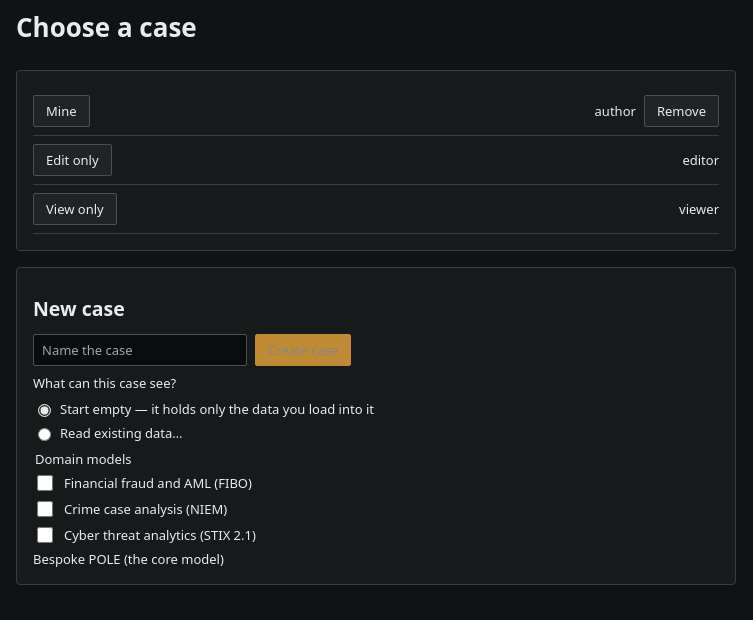
Test: removing a case from the picker › keeps the case listed and says why when the server refuses
Check: the button "Mine" is shown, box [33,95,90,127]
Click the button with aria-label "Remove Mine" at (681, 111), box [644,95,719,127]
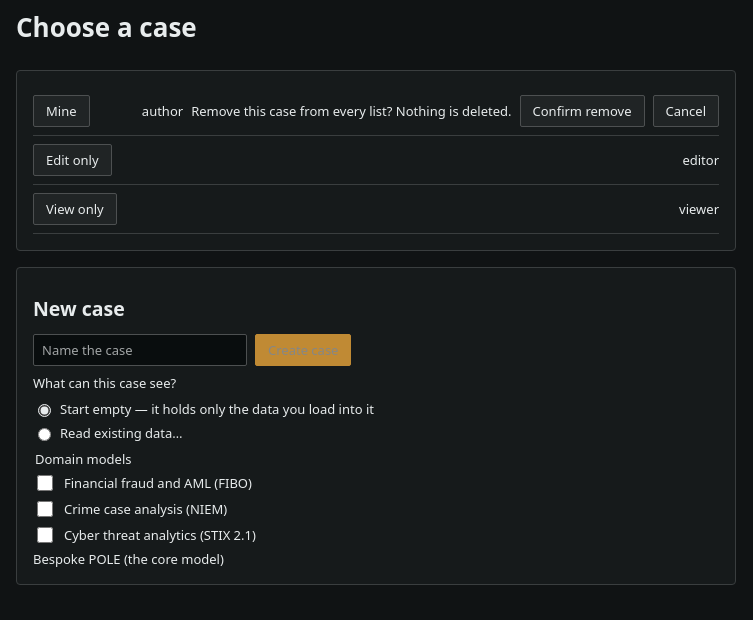
Click the button "Confirm remove" at (582, 111), box [520,95,644,127]
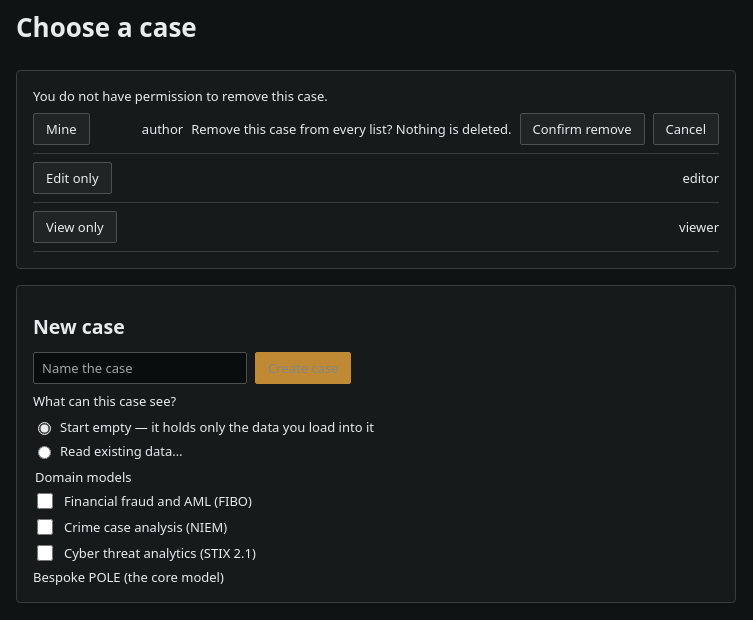
Check: the button "Mine" is shown, box [33,113,90,145]
Check: the message "You do not have permission to remove this case." is shown, box [33,87,328,105]
